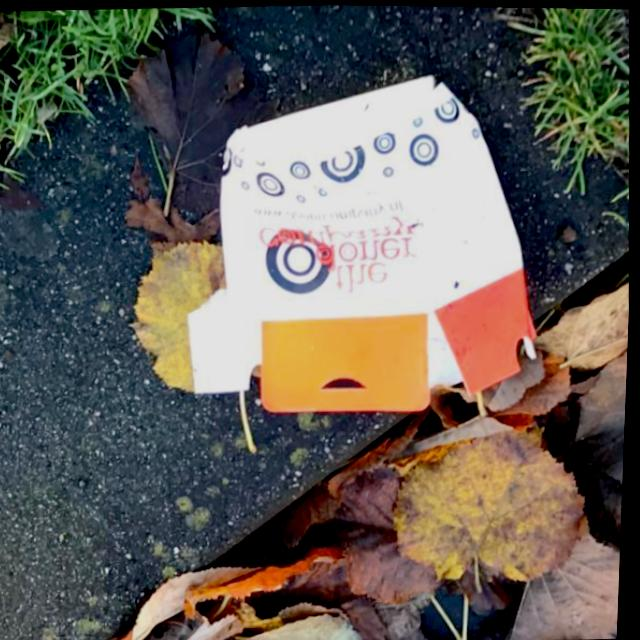Paper: (170, 65, 553, 421)
